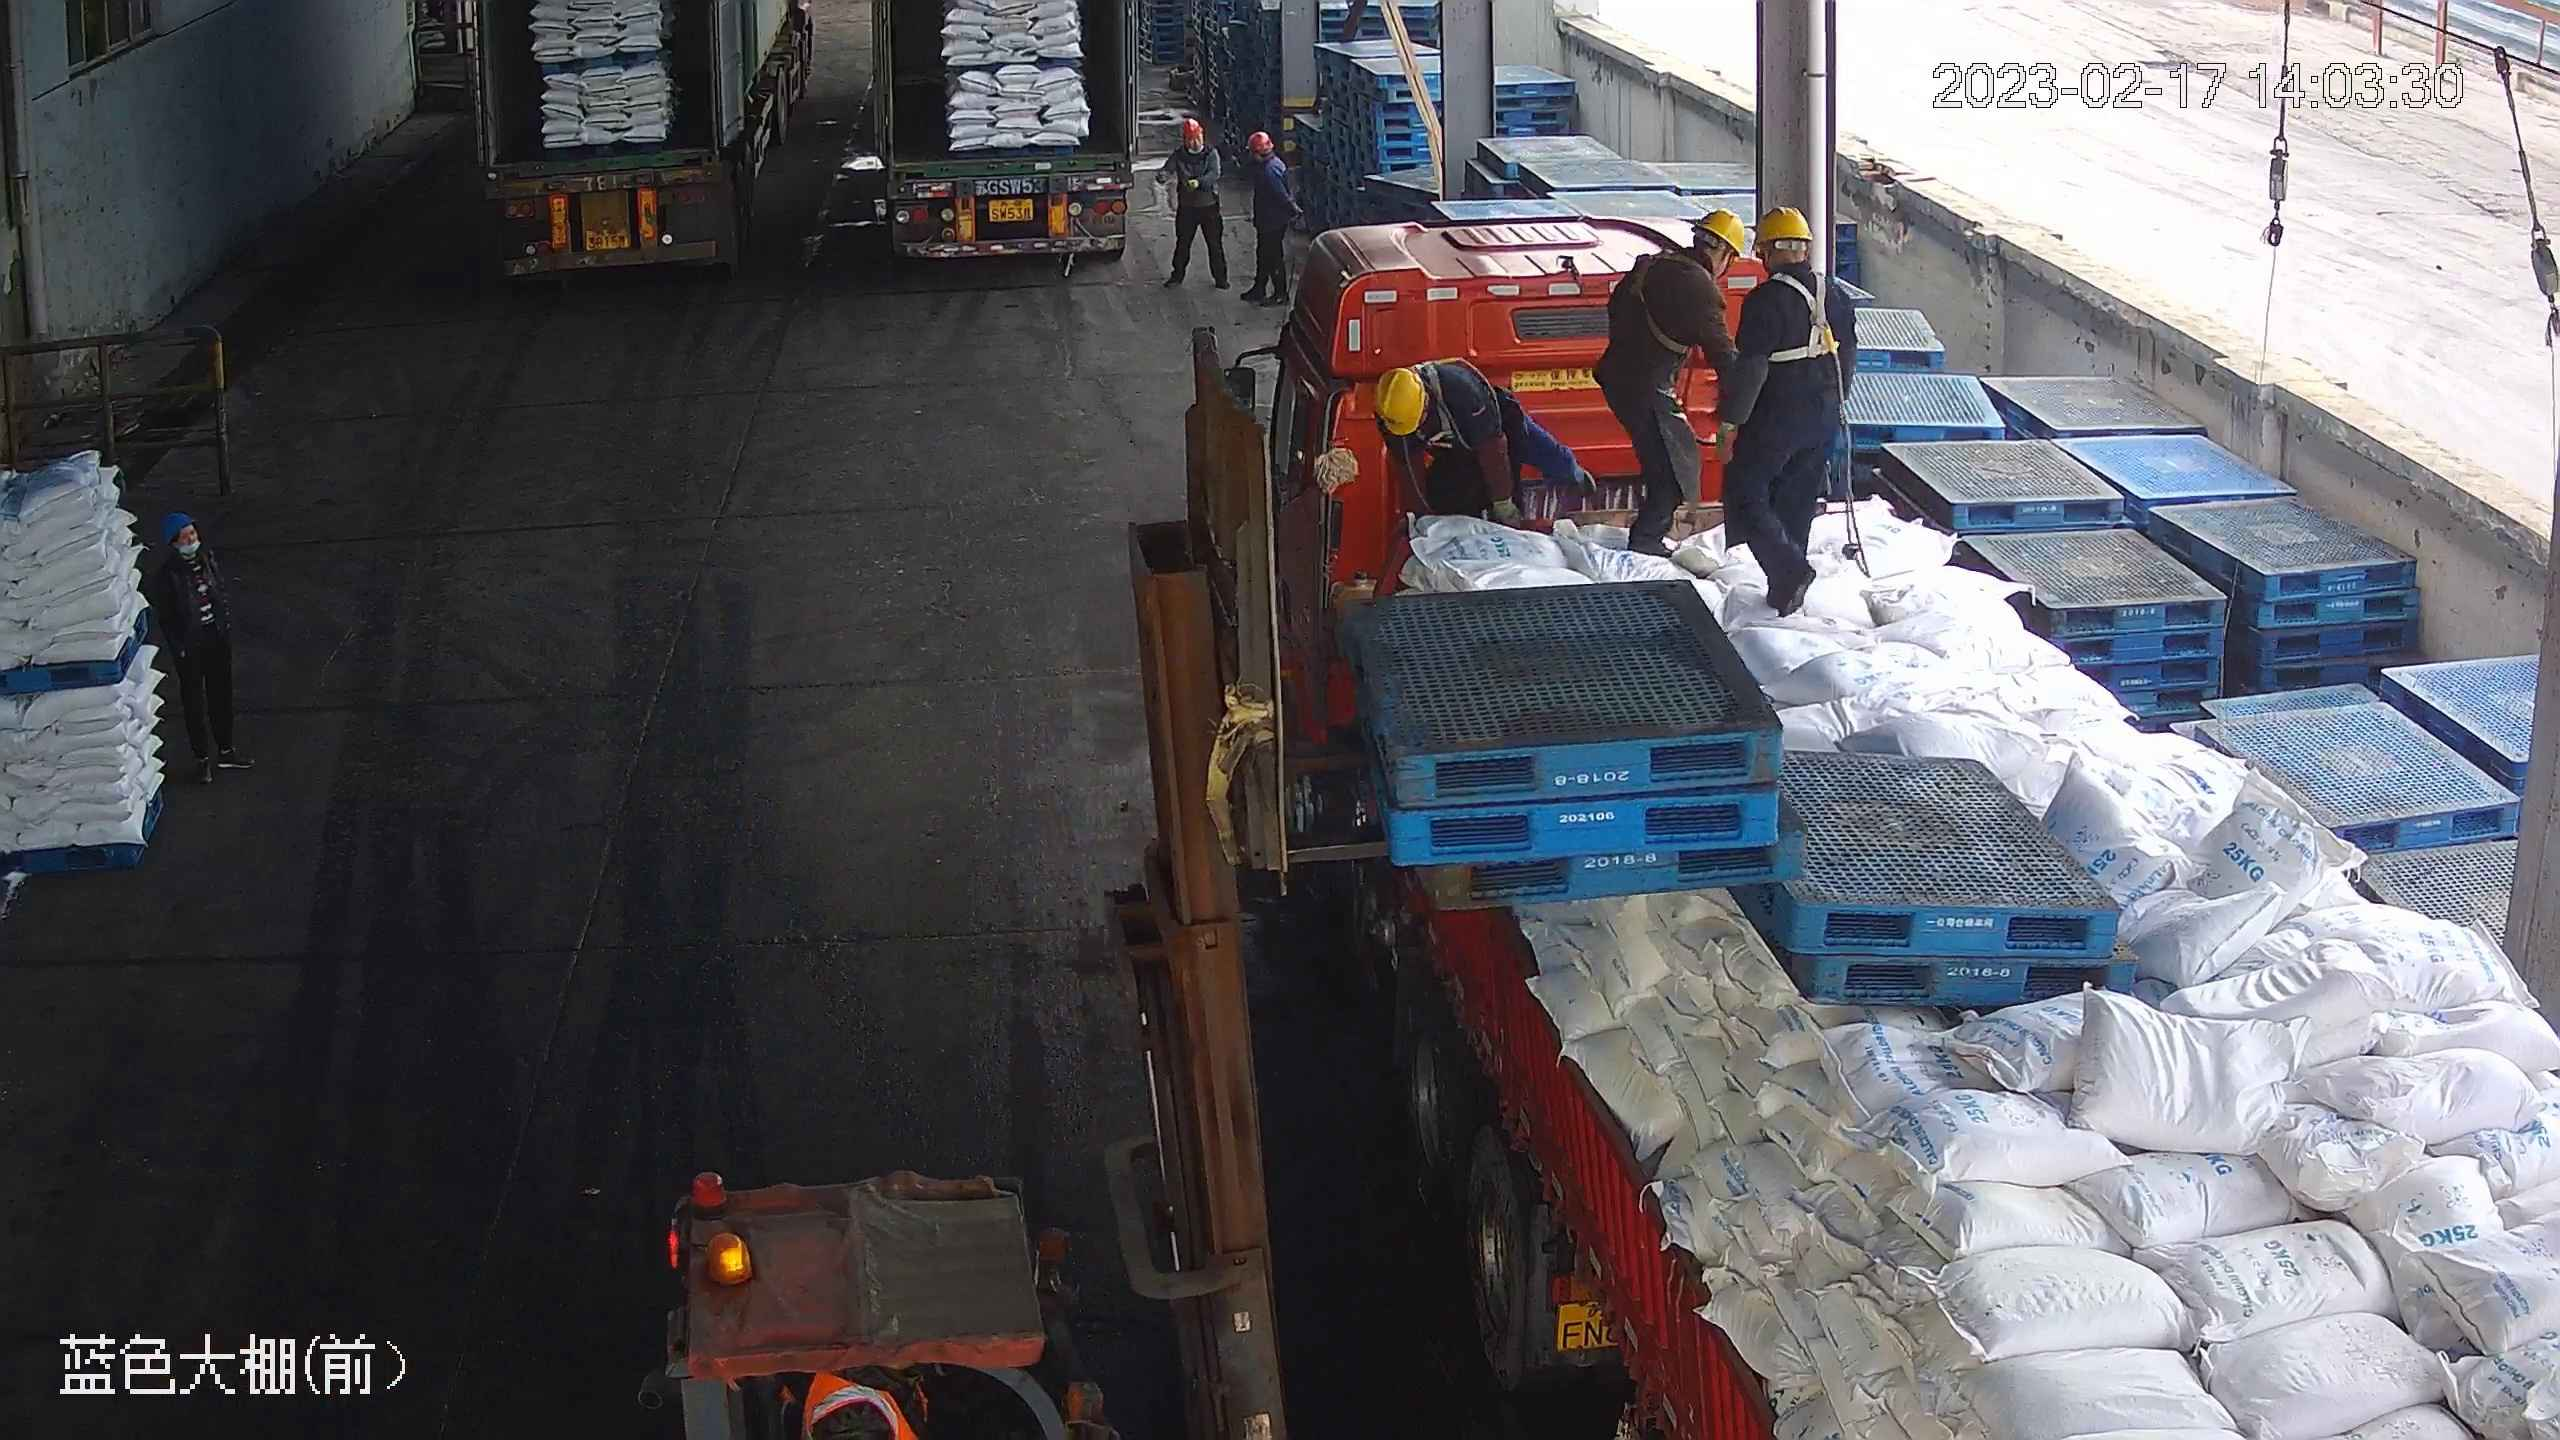belt: (1621, 246, 1709, 350), (1757, 265, 1845, 365), (1418, 361, 1481, 447)
head: (1735, 203, 1857, 321), (1626, 207, 1748, 308), (1373, 364, 1488, 451), (160, 516, 219, 592), (1240, 126, 1298, 192), (1166, 115, 1216, 170)
helmet: (1373, 369, 1425, 438), (1750, 204, 1814, 249), (1696, 207, 1749, 255), (161, 513, 196, 546), (1244, 125, 1272, 149), (1176, 115, 1202, 136)
people: (1720, 204, 1856, 616), (1596, 208, 1751, 558), (1368, 362, 1589, 543), (162, 514, 253, 781), (1157, 113, 1228, 291), (1237, 125, 1300, 301)
truck: (1201, 177, 2555, 1440), (474, 1, 821, 283), (848, 1, 1193, 280)
